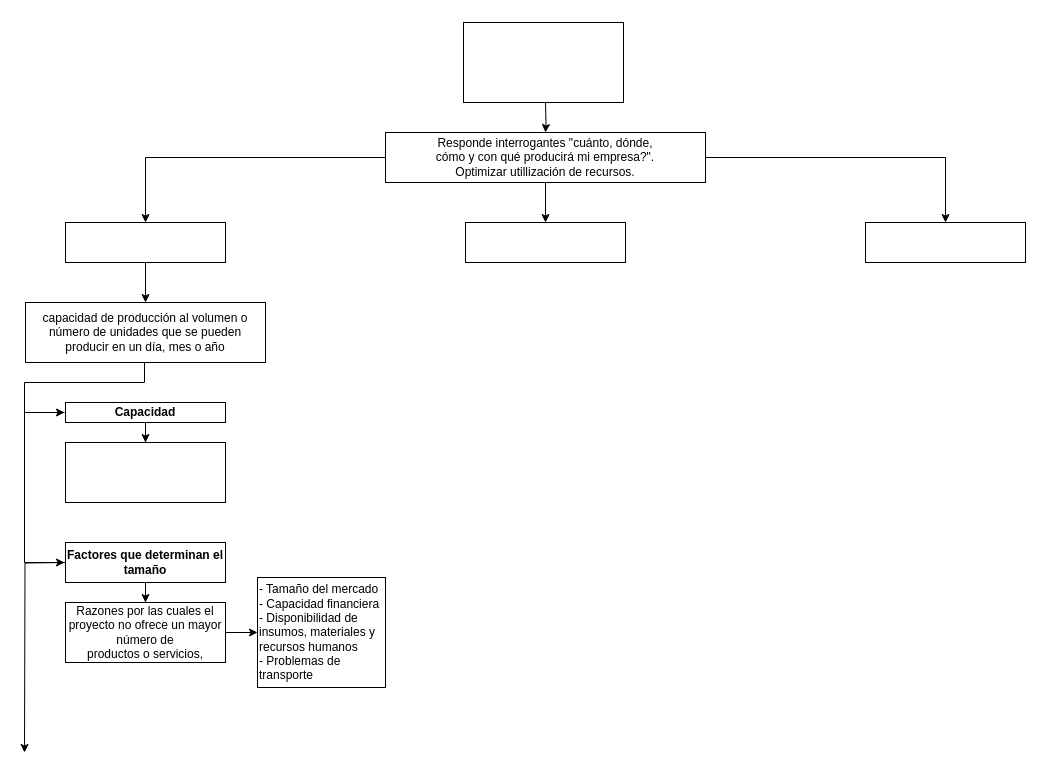
The diagram is 1043 pixels wide and 778 high, and some of its shapes have lost their labels. Here are the shapes that lost their labels. From the top down, the box of each, then its label:
(462, 22, 624, 102): Estudio Tecnico
(64, 222, 226, 262): Tamaño del Proyecto
(64, 442, 226, 502): Cantidad de producción o de prestación de servicio por unidad de tiempo.
